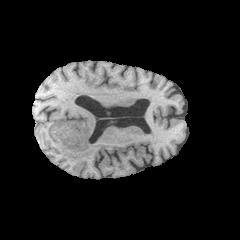glioma: (51, 109, 95, 162)
